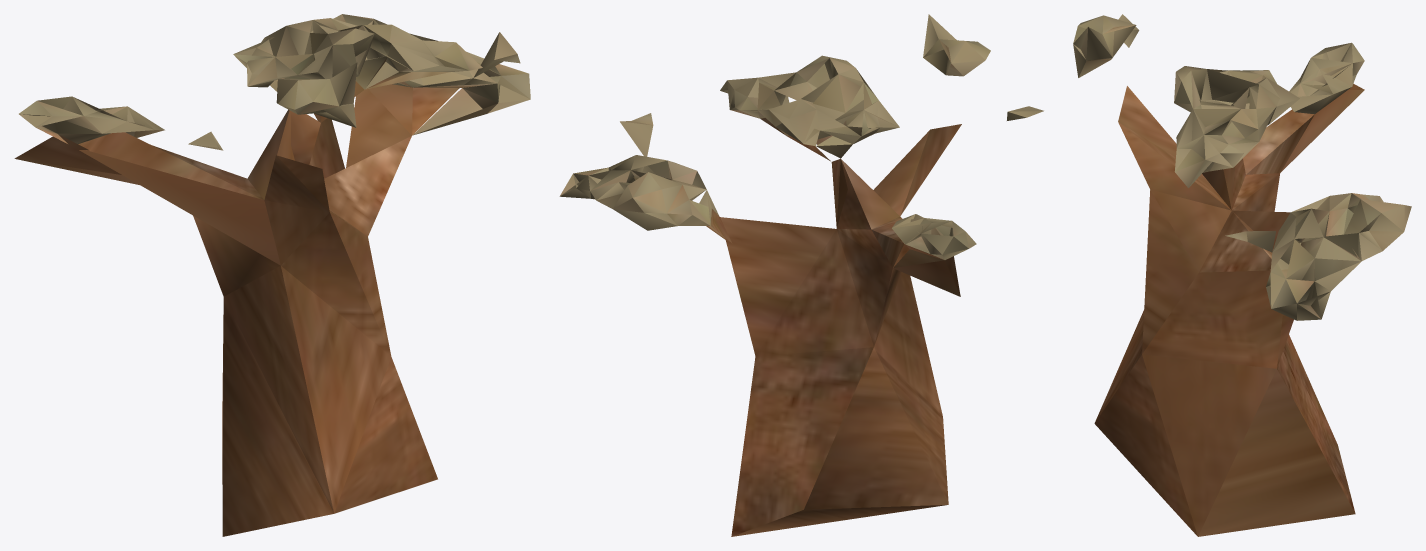
File: de_reservoir_tree_lod2.glb
3 renders of one model, left to right at view 1: azimuth 30°, elevation 25°; view 2: azimuth 150°, elevation 25°; view 3: azimuth 270°, elevation 25°, orthographic. The views are drawn at different scales.
Visible parts, largest first — view 1: mesh; view 2: mesh; view 3: mesh.
Boxes of the visible parts, bbox=[...] form: mesh: bbox=[14, 14, 530, 536]; mesh: bbox=[559, 14, 1043, 536]; mesh: bbox=[1073, 14, 1411, 536].
Bounding box in the file's own units: 1.6 × 1.6 × 1.08.
Materials: 1 (1 with a texture image).
